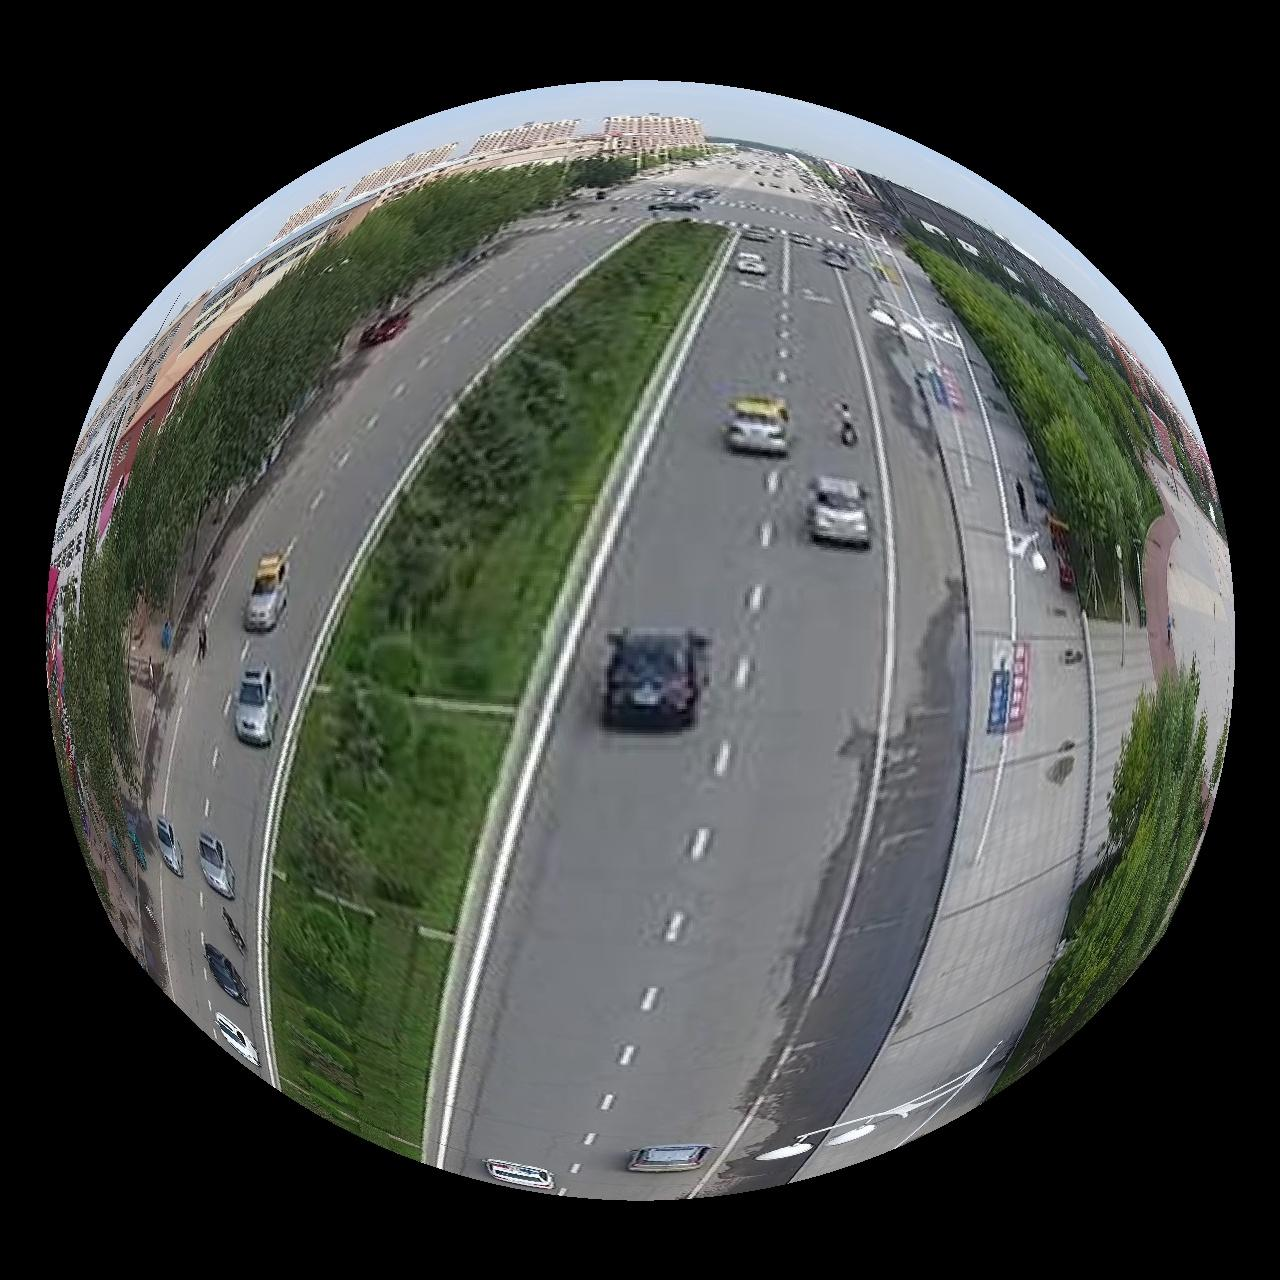cars: (602, 628, 710, 733), (808, 475, 872, 547), (726, 394, 791, 456), (243, 549, 287, 632), (233, 663, 278, 747), (204, 945, 247, 1007), (627, 1145, 713, 1176), (197, 832, 234, 900), (483, 1160, 554, 1194), (215, 1014, 258, 1068), (154, 818, 182, 878), (736, 251, 769, 275)
trees: (268, 223, 724, 1159), (62, 159, 635, 830), (998, 663, 1227, 1091), (908, 234, 1164, 619)
